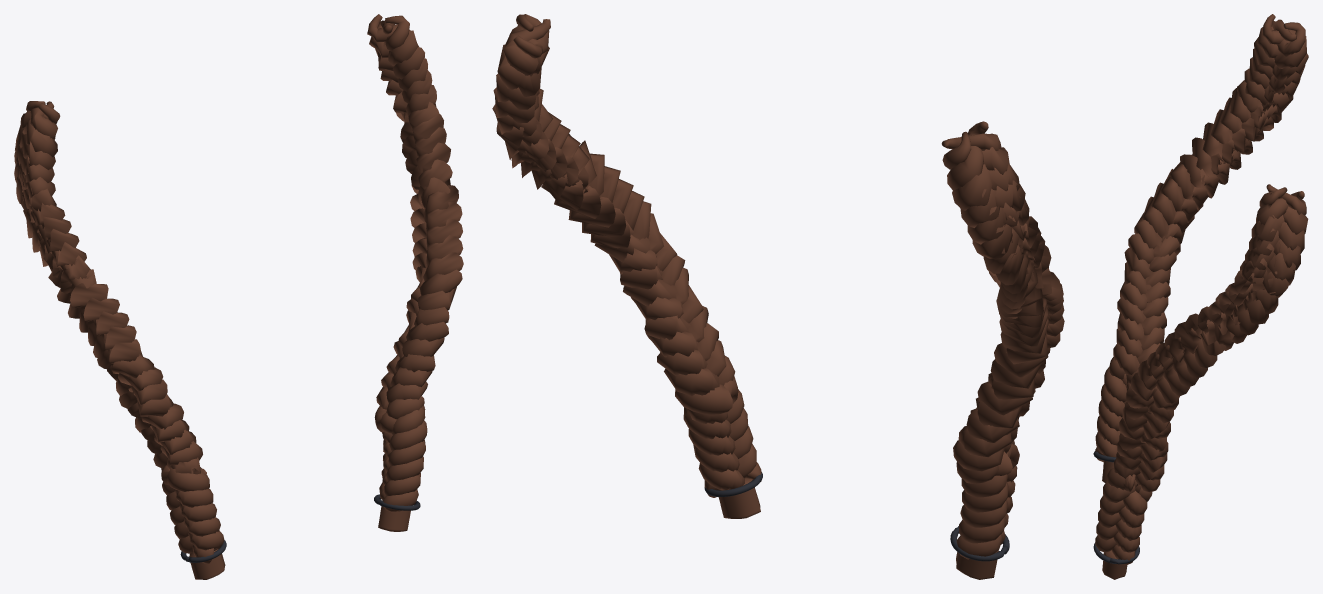
The model's file is Feminine-twin-braids-jersey-pashmina-lengths251.glb.
3 renders of one model, left to right at view 1: azimuth 30°, elevation 25°; view 2: azimuth 150°, elevation 25°; view 3: azimuth 270°, elevation 25°, orthographic. The views are drawn at different scales.
Visible parts, largest first — view 1: 226 hairLengths / Hair / chestnut226, 226 hairLengths / Hair / ties226; view 2: 226 hairLengths / Hair / chestnut226, 226 hairLengths / Hair / ties226; view 3: 226 hairLengths / Hair / chestnut226, 226 hairLengths / Hair / ties226.
Part boxes in pixels (<box>): 226 hairLengths / Hair / chestnut226: <box>14,14,463,579</box>; 226 hairLengths / Hair / ties226: <box>180,494,420,562</box>; 226 hairLengths / Hair / chestnut226: <box>492,14,1064,579</box>; 226 hairLengths / Hair / ties226: <box>704,472,1009,561</box>; 226 hairLengths / Hair / chestnut226: <box>1095,14,1308,579</box>; 226 hairLengths / Hair / ties226: <box>1093,451,1139,564</box>.
Bounding box in the file's own units: 1.03 × 1.06 × 0.4794.
